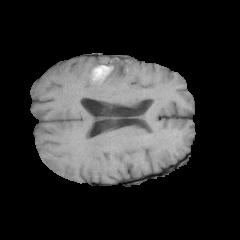glioma: (91, 56, 145, 100)
